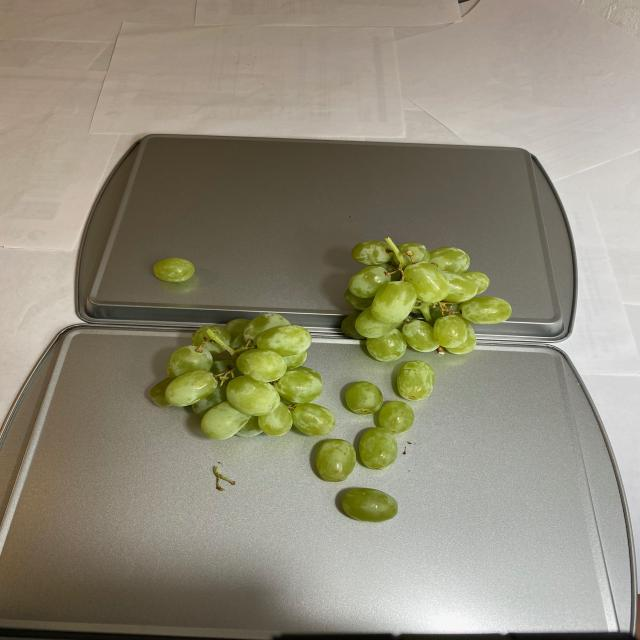grapes: (147, 238, 509, 528)
